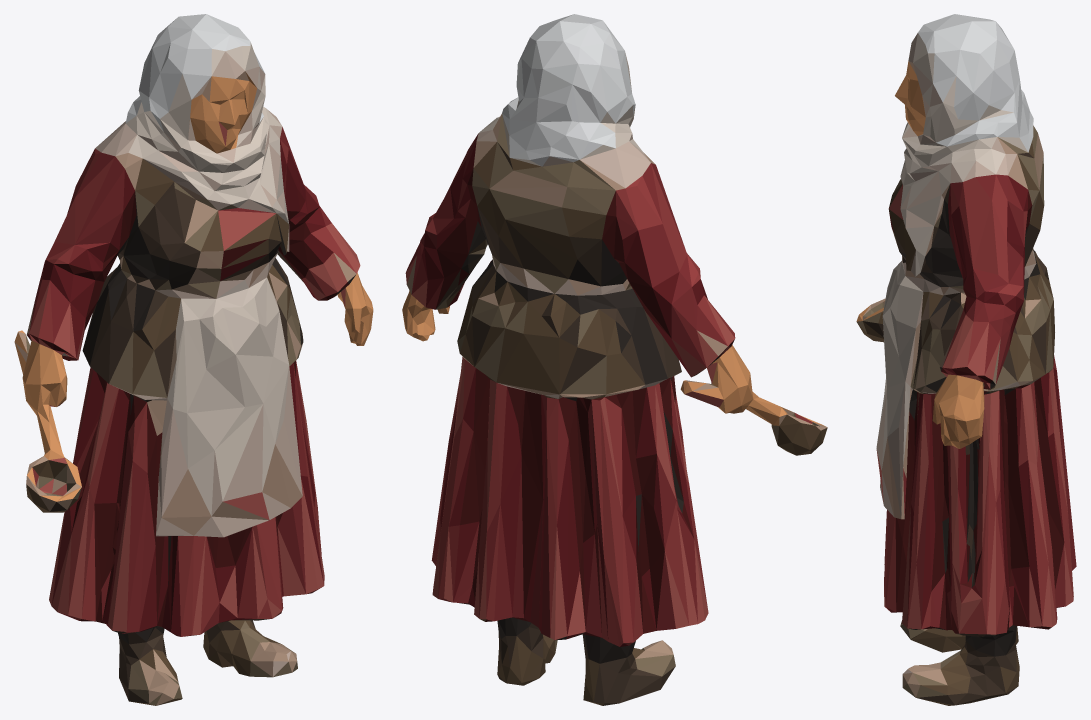
File: cook.blender.phone.glb
3 renders of one model, left to right at view 1: azimuth 30°, elevation 25°; view 2: azimuth 150°, elevation 25°; view 3: azimuth 270°, elevation 25°, orthographic.
Visible parts, largest first — view 1: cook-blender; view 2: cook-blender; view 3: cook-blender.
Part boxes in pixels (x1=…): cook-blender: x1=14, y1=14, x2=373, y2=705; cook-blender: x1=402, y1=14, x2=827, y2=705; cook-blender: x1=856, y1=14, x2=1076, y2=705.
Bounding box in the file's own units: 1.06 × 1.75 × 0.5344.
